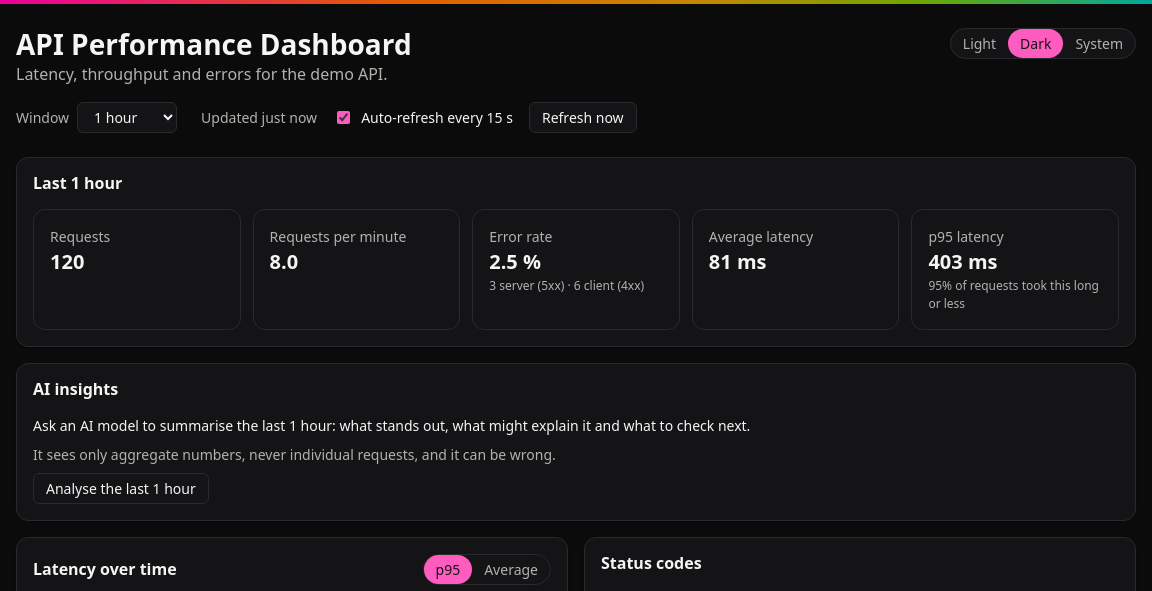
Test: App › keeps the last data when a refresh fails
expect the text "120" is shown: met, box [50, 248, 84, 275]
Click the button "Refresh now": click(583, 117) [529, 102, 637, 133]
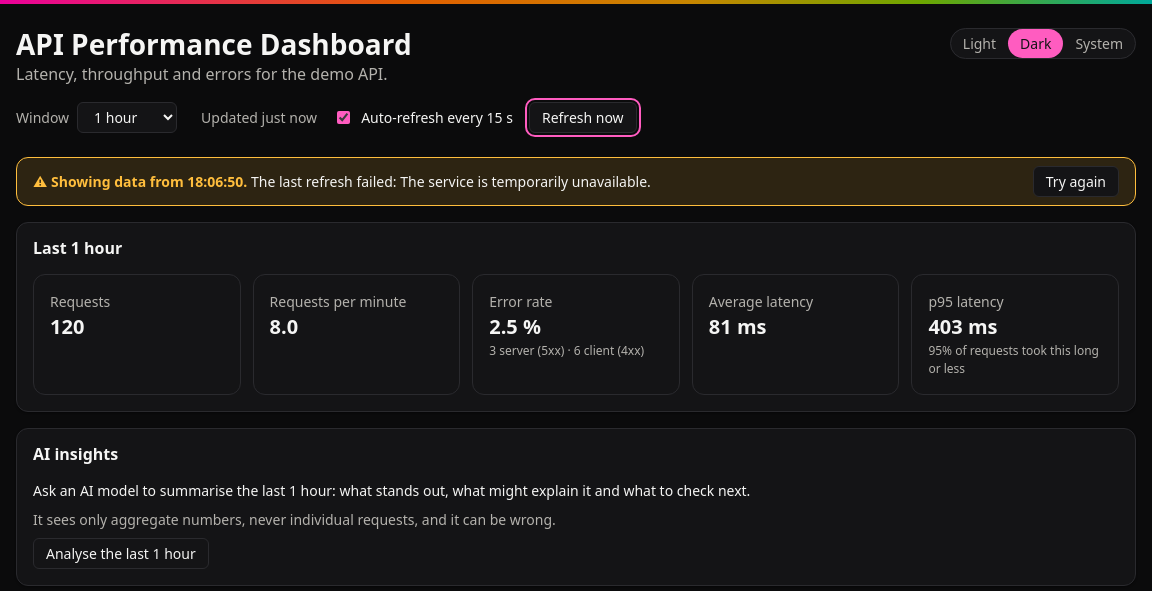
expect the text "120" is shown: met, box [50, 313, 84, 340]
expect the text "The last refresh failed" is shown: met, box [251, 172, 400, 191]
